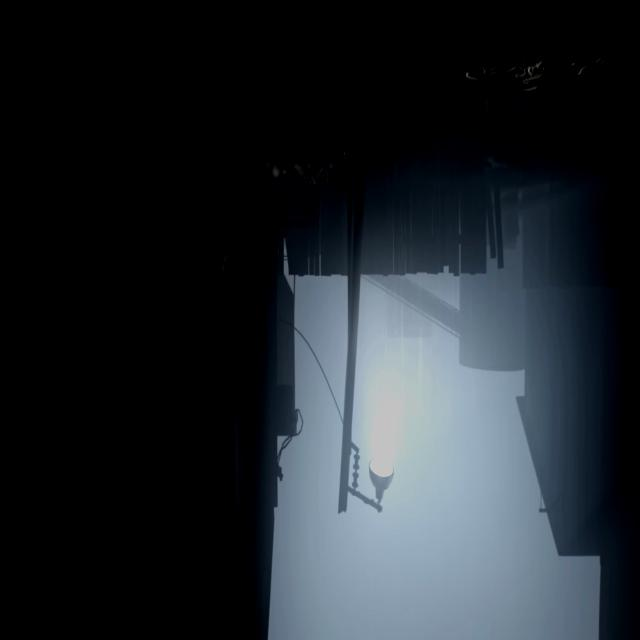boy: (220, 162, 241, 271)
